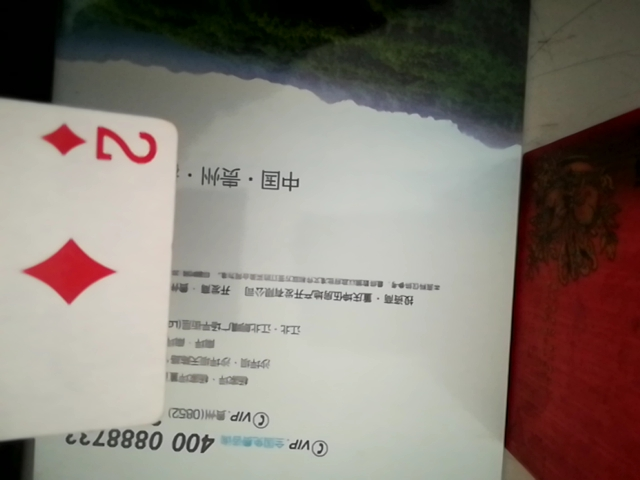fk 2: (0, 79, 189, 450)
